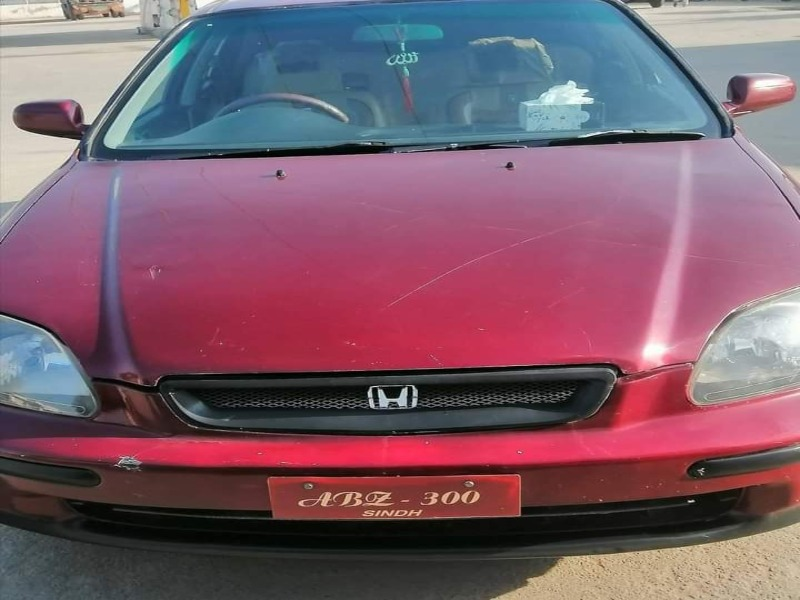License Plate: (265, 473, 523, 523)
